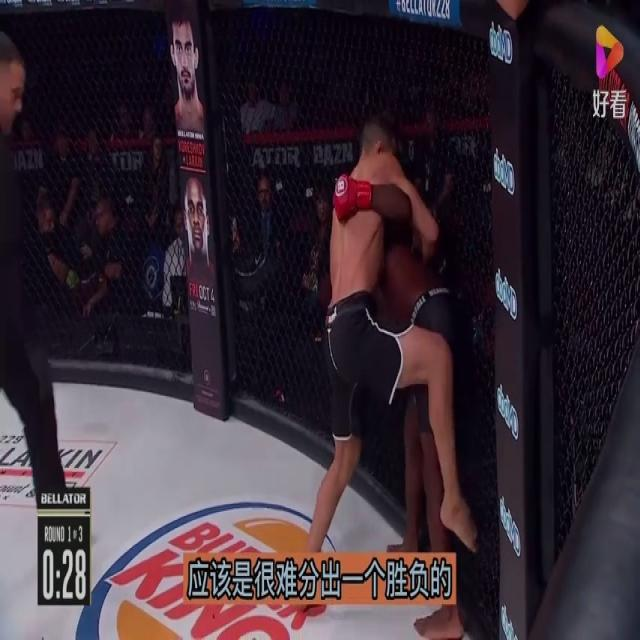fight: (318, 112, 456, 639)
